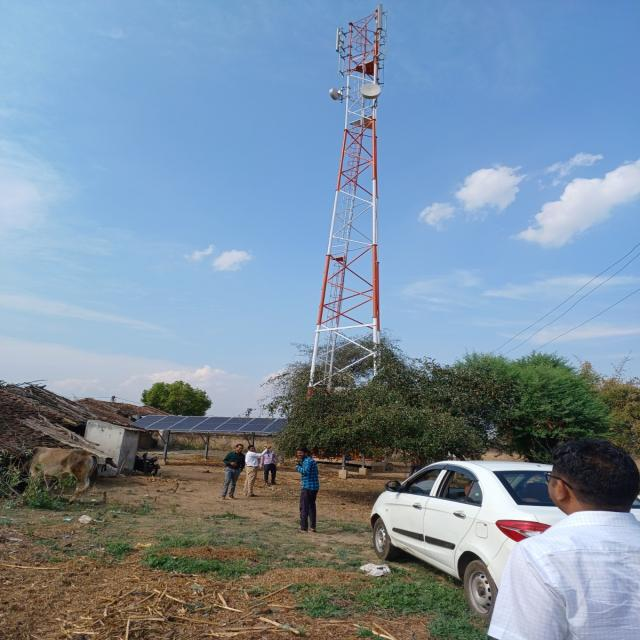GSM Antenna: (373, 4, 388, 32), (331, 27, 344, 53)
Microwave Antenna: (357, 81, 383, 101), (325, 85, 344, 102)
